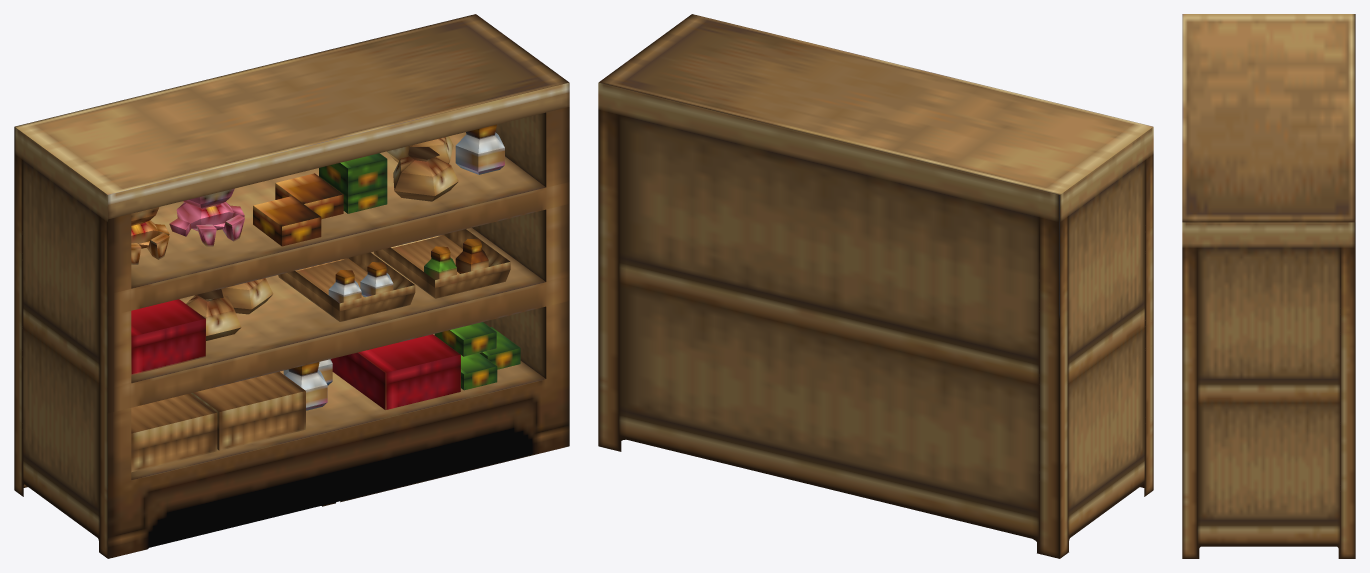
Rendered from Inside_Poly_Shelf_11.obj.
The picture shows the model from 3 angles, left to right: view 1: azimuth 30°, elevation 25°; view 2: azimuth 150°, elevation 25°; view 3: azimuth 270°, elevation 25°; orthographic projection. The views are drawn at different scales.
Visible parts, largest first — view 1: Cube.006; view 2: Cube.006; view 3: Cube.006.
Boxes of the visible parts, x1=… form: Cube.006: x1=14, y1=14, x2=569, y2=558; Cube.006: x1=598, y1=14, x2=1153, y2=558; Cube.006: x1=1182, y1=14, x2=1355, y2=558.
Size of the model in its own units: 1.99 by 1.5 by 0.7.
1 material, 1 textured.
